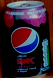pepsi: (5, 1, 51, 77)
